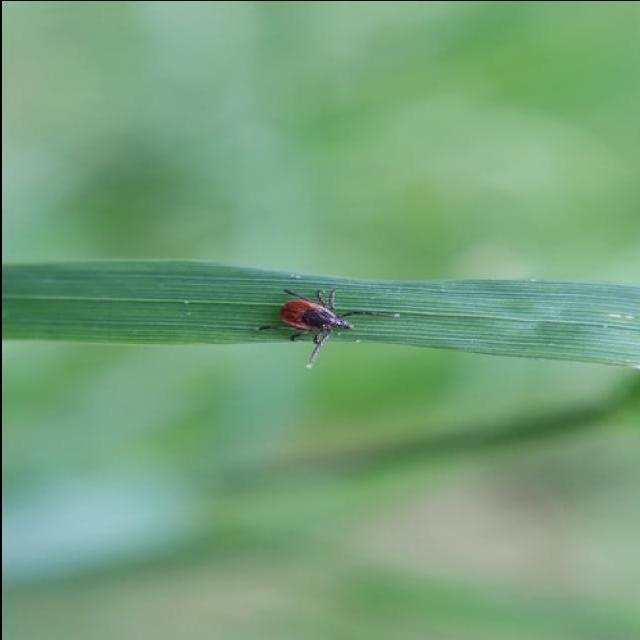Ixodes Ricinus-F: (252, 287, 398, 367)
